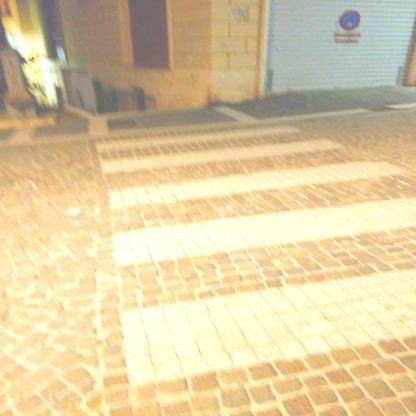crosswalk: (86, 135, 411, 214)
